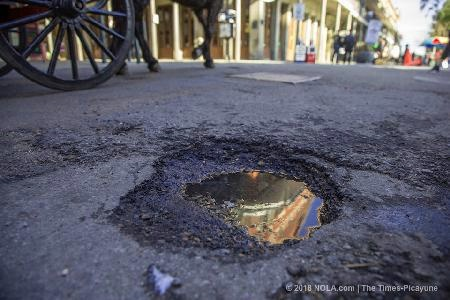pothole: (101, 132, 346, 262)
